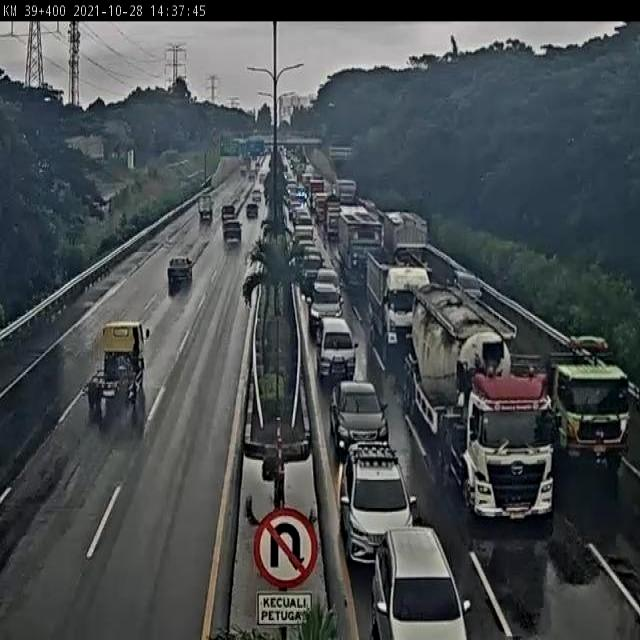Car: (368, 526, 470, 639), (340, 443, 416, 564), (332, 376, 396, 451), (315, 318, 358, 386), (309, 279, 344, 336), (165, 251, 198, 295), (298, 251, 324, 300), (222, 218, 242, 246), (221, 204, 236, 220), (246, 202, 258, 219)
Truck: (401, 284, 554, 521), (548, 345, 632, 484), (76, 312, 157, 410), (364, 246, 434, 345), (338, 209, 383, 275), (387, 205, 432, 252), (320, 199, 348, 238), (198, 194, 213, 222)
